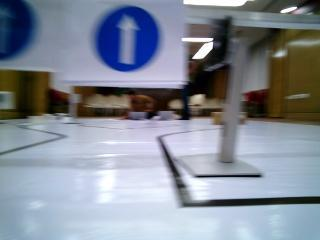straight: (56, 0, 180, 81), (0, 0, 57, 70)
